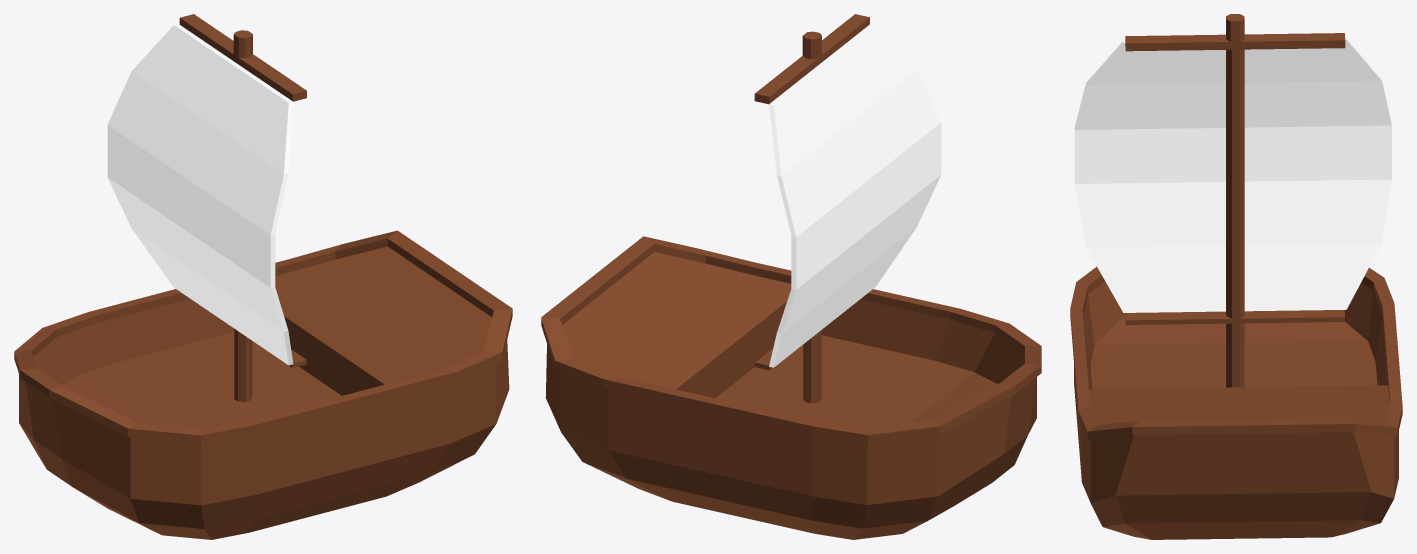
File: ship_beta.glb
3 views of the same model, side by side, from view 1: azimuth 30°, elevation 25°; view 2: azimuth 150°, elevation 25°; view 3: azimuth 270°, elevation 25° (orthographic). The views are drawn at different scales.
Parts seen in each view (by area): view 1: КОРАБЛ, ПОЛТЕНЦЕ; view 2: КОРАБЛ, ПОЛТЕНЦЕ; view 3: КОРАБЛ, ПОЛТЕНЦЕ.
Boxes of the visible parts, left/top/right/bottom form: КОРАБЛ: left=14, top=14, right=512, bottom=539; ПОЛТЕНЦЕ: left=107, top=24, right=293, bottom=365; КОРАБЛ: left=541, top=14, right=1041, bottom=539; ПОЛТЕНЦЕ: left=769, top=23, right=941, bottom=367; КОРАБЛ: left=1070, top=14, right=1402, bottom=539; ПОЛТЕНЦЕ: left=1074, top=37, right=1391, bottom=312.
Size of the model in its own units: 3.24 by 3.19 by 2.09.
Materials: 2 (1 with a texture image).
